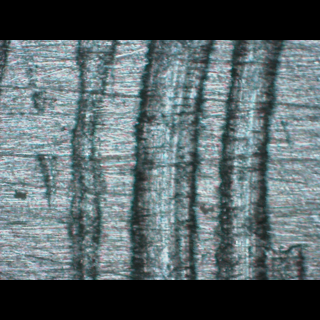d: (51, 40, 295, 280)
